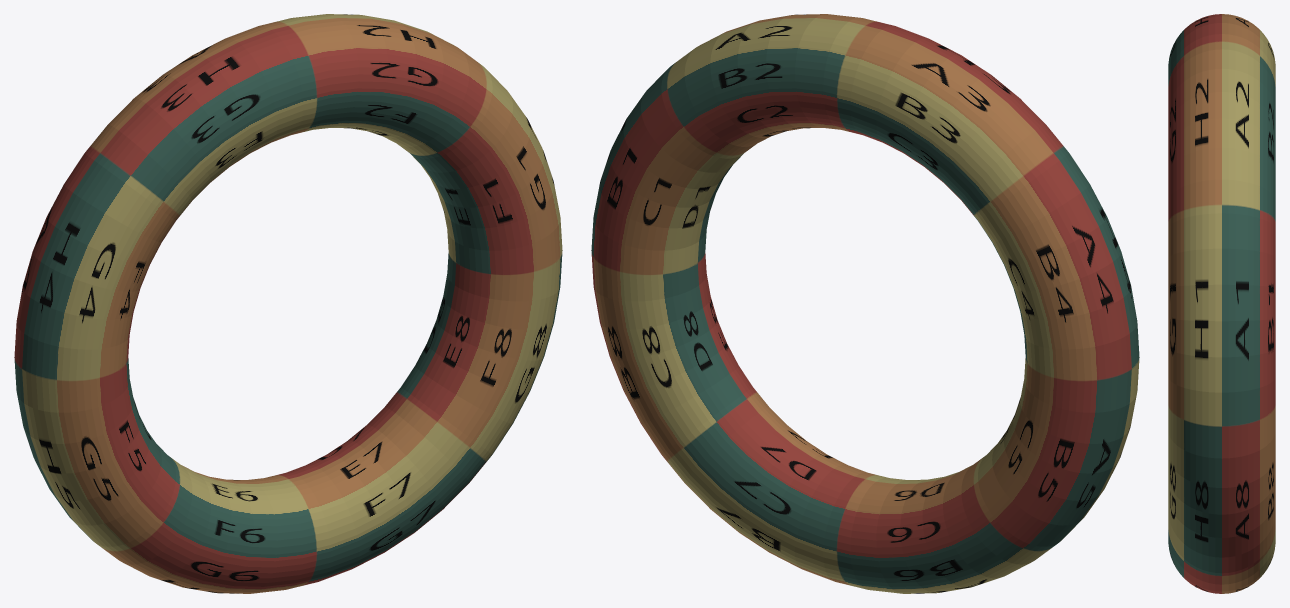
The model's file is texture_torus_R7_r5.glb.
3 renders of one model, left to right at view 1: azimuth 30°, elevation 25°; view 2: azimuth 150°, elevation 25°; view 3: azimuth 270°, elevation 25°, orthographic. The views are drawn at different scales.
Parts seen in each view (by area): view 1: world; view 2: world; view 3: world.
Part boxes in pixels (x1,y1,x2,y2): world: (14, 14, 562, 593); world: (591, 14, 1139, 593); world: (1168, 14, 1275, 593).
Size of the model in its own units: 18 by 17.96 by 3.33.
Materials: 1 (1 with a texture image).
